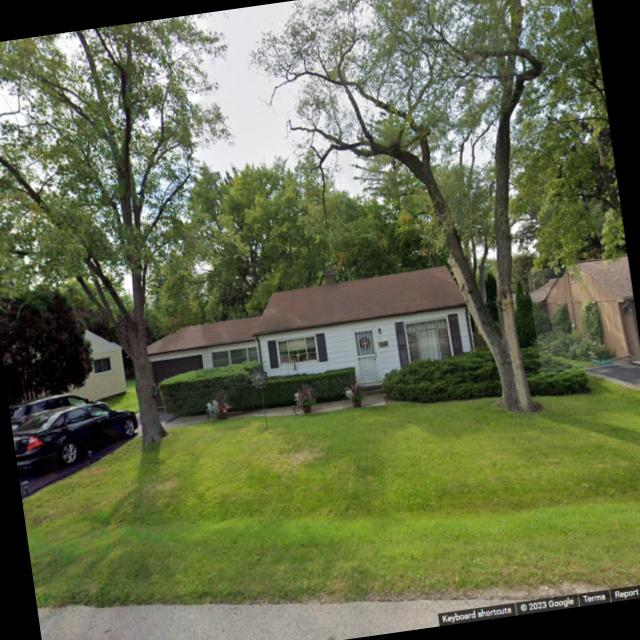House: (116, 249, 479, 422), (527, 256, 640, 375), (0, 326, 130, 418)
